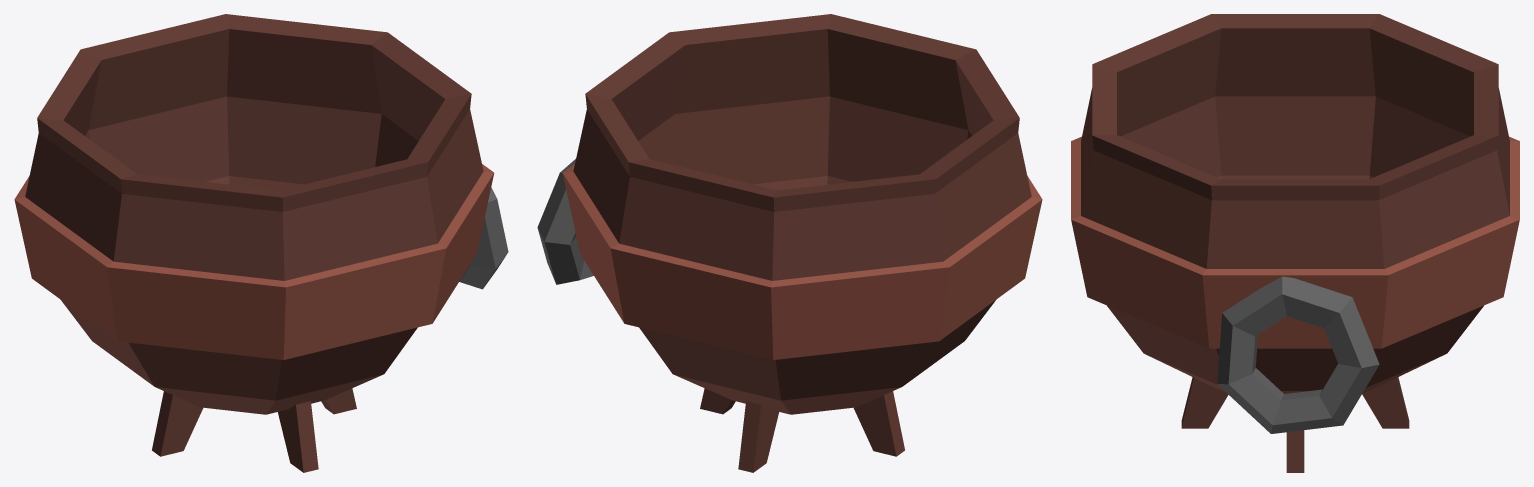
File: Cauldron_5_Red.fbx
3 views of the same model, side by side, from view 1: azimuth 30°, elevation 25°; view 2: azimuth 150°, elevation 25°; view 3: azimuth 270°, elevation 25° (orthographic).
Parts seen in each view (by area): view 1: Cauldron_5_Red_Part_1, Cauldron_5_Red_Part_2, Cauldron_5_Red_Part_3; view 2: Cauldron_5_Red_Part_1, Cauldron_5_Red_Part_2, Cauldron_5_Red_Part_3; view 3: Cauldron_5_Red_Part_1, Cauldron_5_Red_Part_2, Cauldron_5_Red_Part_3.
Boxes of the visible parts, x1=… form: Cauldron_5_Red_Part_1: x1=25, y1=14, x2=483, y2=472; Cauldron_5_Red_Part_2: x1=14, y1=164, x2=494, y2=359; Cauldron_5_Red_Part_3: x1=459, y1=187, x2=508, y2=289; Cauldron_5_Red_Part_1: x1=573, y1=14, x2=1031, y2=472; Cauldron_5_Red_Part_2: x1=562, y1=164, x2=1042, y2=359; Cauldron_5_Red_Part_3: x1=537, y1=159, x2=593, y2=284; Cauldron_5_Red_Part_1: x1=1081, y1=14, x2=1509, y2=472; Cauldron_5_Red_Part_2: x1=1071, y1=136, x2=1519, y2=348; Cauldron_5_Red_Part_3: x1=1217, y1=276, x2=1379, y2=433.
Size of the model in its own units: 226 by 162 by 203.
